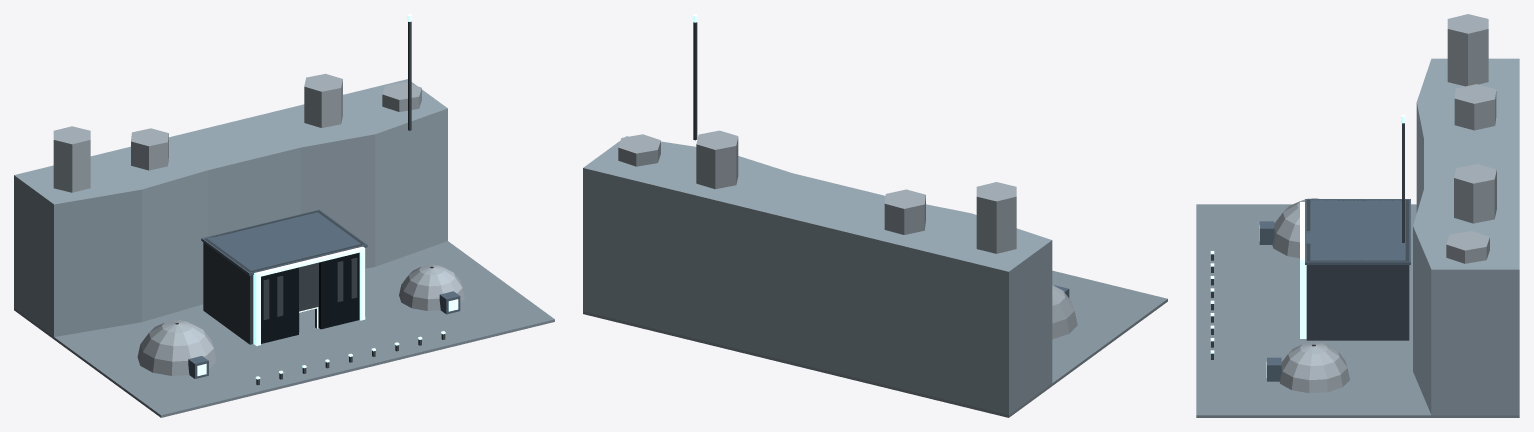
The model's file is shaddai_realm_landmarks_arctic_v01.glb.
3 views of the same model, side by side, from view 1: azimuth 30°, elevation 25°; view 2: azimuth 150°, elevation 25°; view 3: azimuth 270°, elevation 25° (orthographic). The views are drawn at different scales.
Parts seen in each view (by area): view 1: shaddai_landmark_arctic_vault; view 2: shaddai_landmark_arctic_vault; view 3: shaddai_landmark_arctic_vault.
Boxes of the visible parts, x1,y1,x2,y2 form: shaddai_landmark_arctic_vault: [14, 14, 554, 417]; shaddai_landmark_arctic_vault: [583, 14, 1167, 417]; shaddai_landmark_arctic_vault: [1196, 14, 1519, 417].
Bounding box in the file's own units: 68 × 41.3 × 44.
